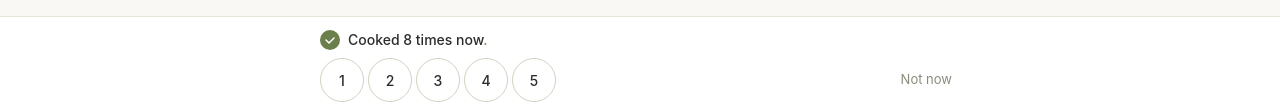
Test case: JustCookedStrip › successful rating › shows "Thanks. Rated N stars." after a successful rating
Click the radio button named "3 stars".
click(438, 80)  # box [416,58,460,102]
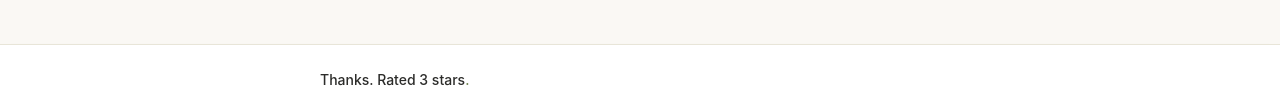
Check: the text "Thanks. Rated 3 stars." is shown, box [320,71,469,88]
